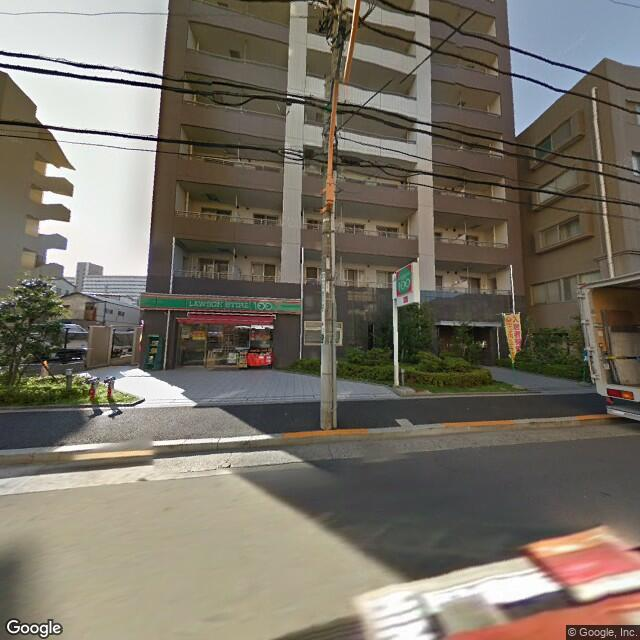lawson: (136, 289, 303, 315), (396, 257, 420, 300)
